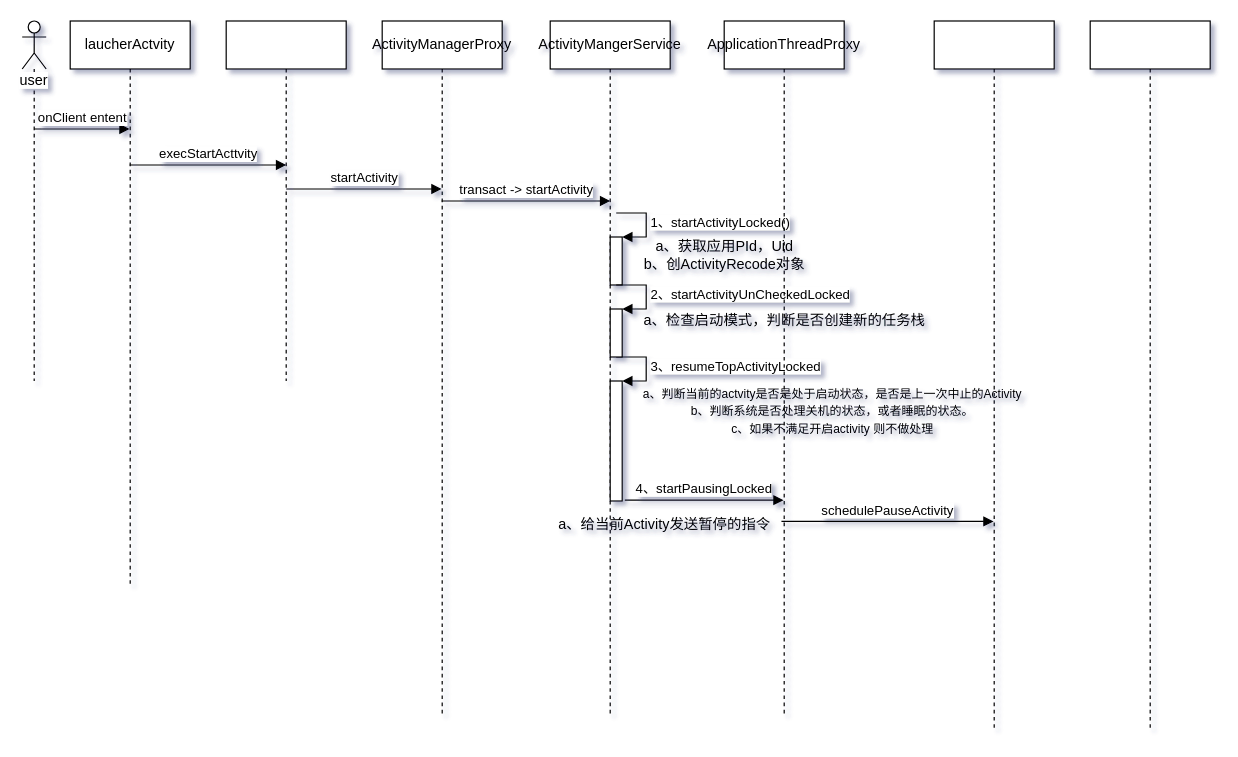
The diagram is 1238 pixels wide and 757 high, and some of its shapes have lost their labels. Each missing label, with the box of its shape:
ActvityThread: (1089, 20, 1210, 729)
ApplicationThread: (933, 20, 1054, 729)
instrumentation: (225, 20, 346, 381)
